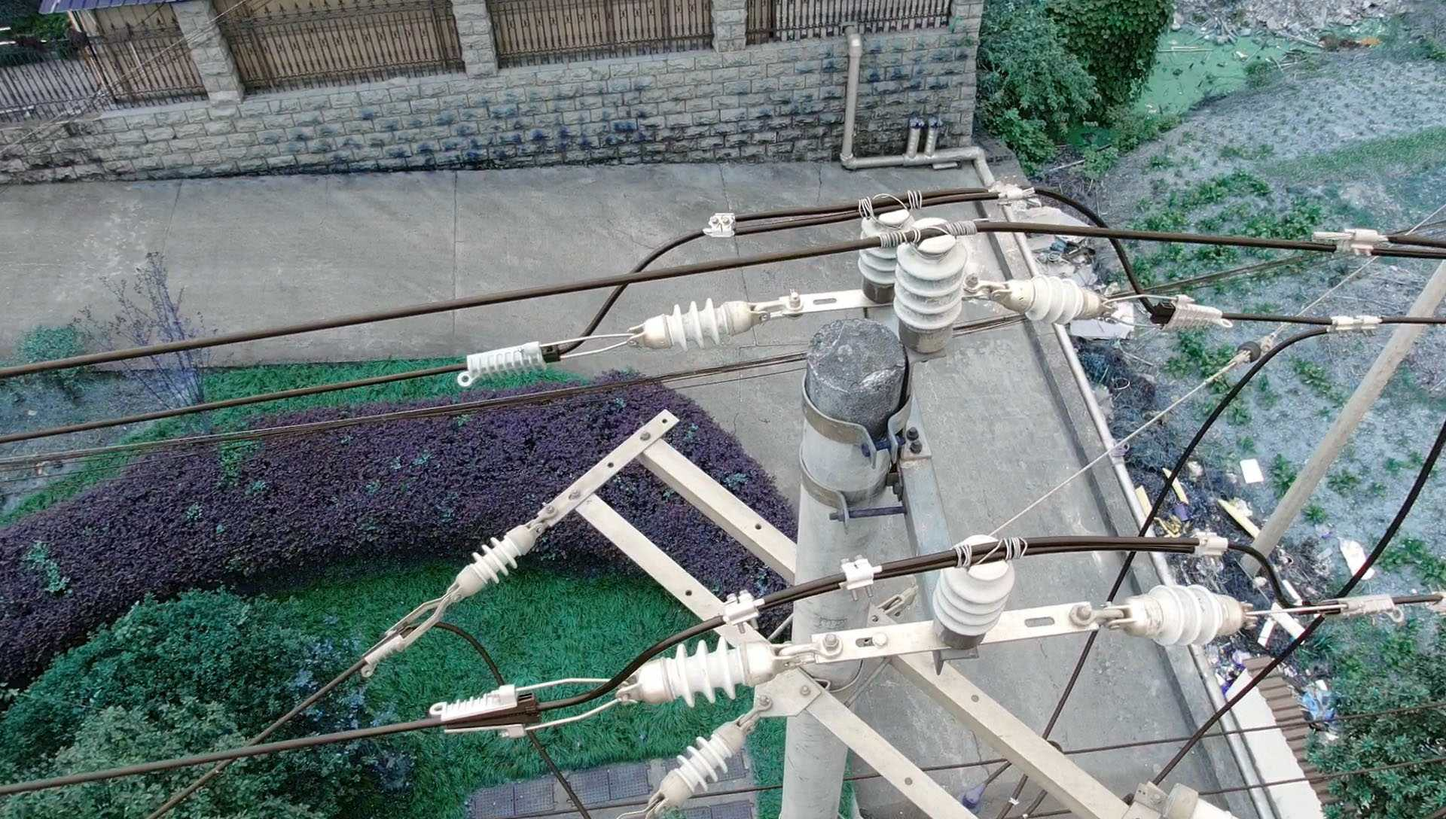severe_soiling_no_discharge_whole: (892, 214, 968, 355), (851, 190, 917, 304)
